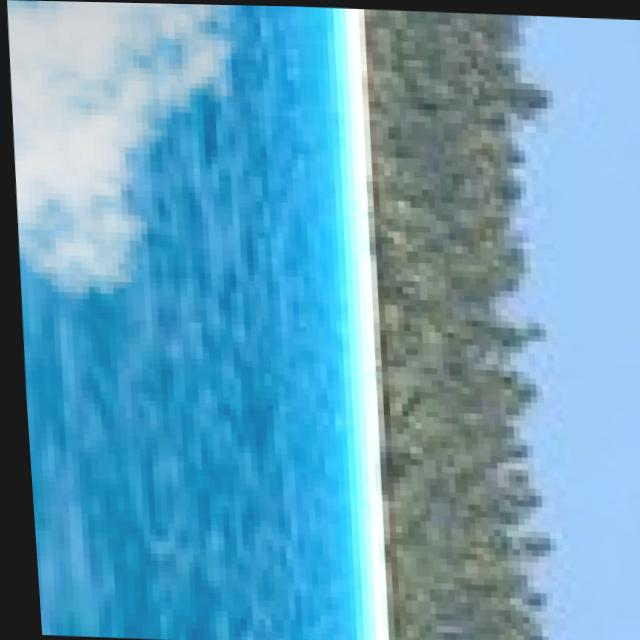smoke: (0, 0, 267, 304)
